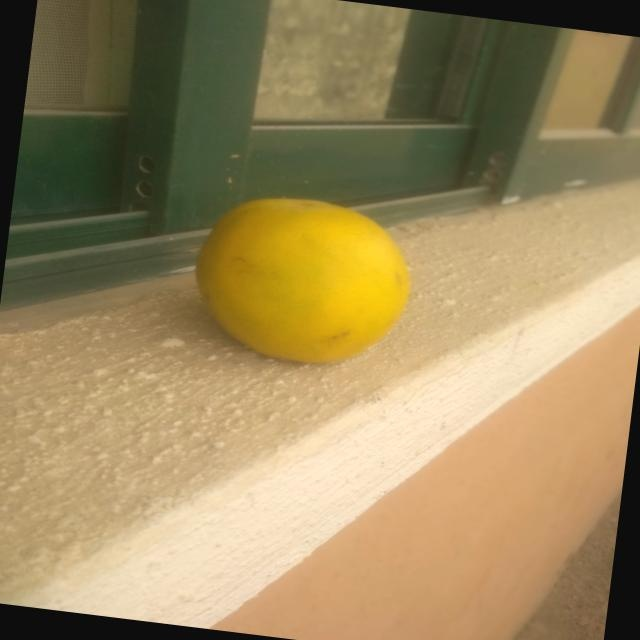agrume: (188, 184, 417, 383)
